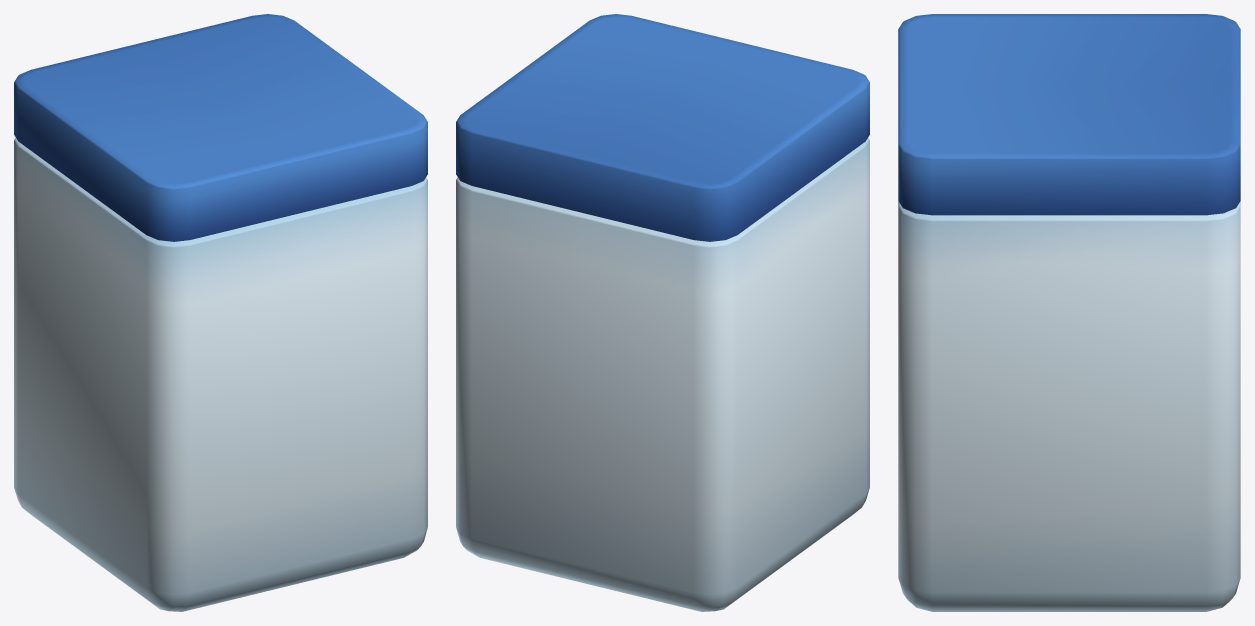
Rendered from Jar02.fbx.
3 renders of one model, left to right at view 1: azimuth 30°, elevation 25°; view 2: azimuth 150°, elevation 25°; view 3: azimuth 270°, elevation 25°, orthographic. The views are drawn at different scales.
Visible parts, largest first — view 1: Jar02; view 2: Jar02; view 3: Jar02.
Boxes of the visible parts, x1=… form: Jar02: x1=14, y1=14, x2=427, y2=611; Jar02: x1=456, y1=14, x2=869, y2=611; Jar02: x1=898, y1=14, x2=1240, y2=611.
Size of the model in its own units: 200 by 300 by 200.
